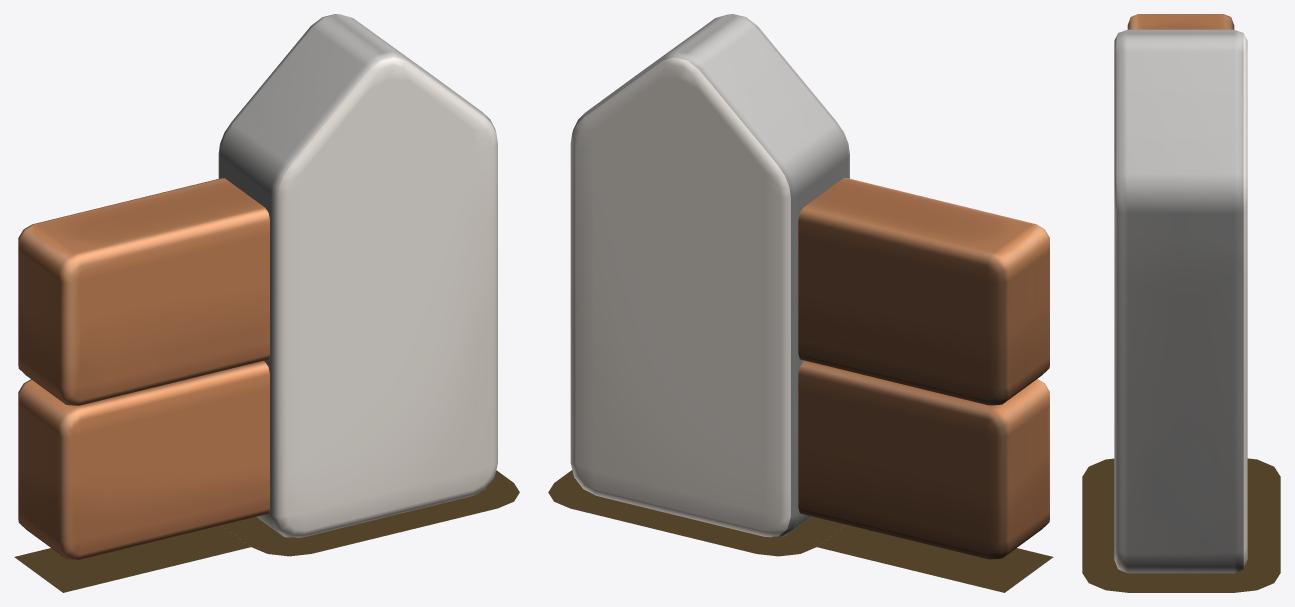
Rendered from FenceA_R.fbx.
3 views of the same model, side by side, from view 1: azimuth 30°, elevation 25°; view 2: azimuth 150°, elevation 25°; view 3: azimuth 270°, elevation 25° (orthographic). The views are drawn at different scales.
Visible parts, largest first — view 1: FenceAR_body, FenceA_R, FenceAR_SDW; view 2: FenceAR_body, FenceA_R, FenceAR_SDW; view 3: FenceAR_body, FenceAR_SDW, FenceA_R.
Boxes of the visible parts, box(x1,y1,x2,y2) form: FenceAR_body: box(218, 14, 497, 537); FenceA_R: box(18, 178, 269, 559); FenceAR_SDW: box(14, 470, 519, 592); FenceAR_body: box(570, 14, 849, 537); FenceA_R: box(798, 178, 1049, 559); FenceAR_SDW: box(548, 470, 1053, 592); FenceAR_body: box(1114, 29, 1247, 573); FenceAR_SDW: box(1082, 458, 1280, 592); FenceA_R: box(1127, 14, 1234, 29).
Size of the model in its own units: 70.56 by 69.37 by 25.3.
Materials: 2 (1 with a texture image).
